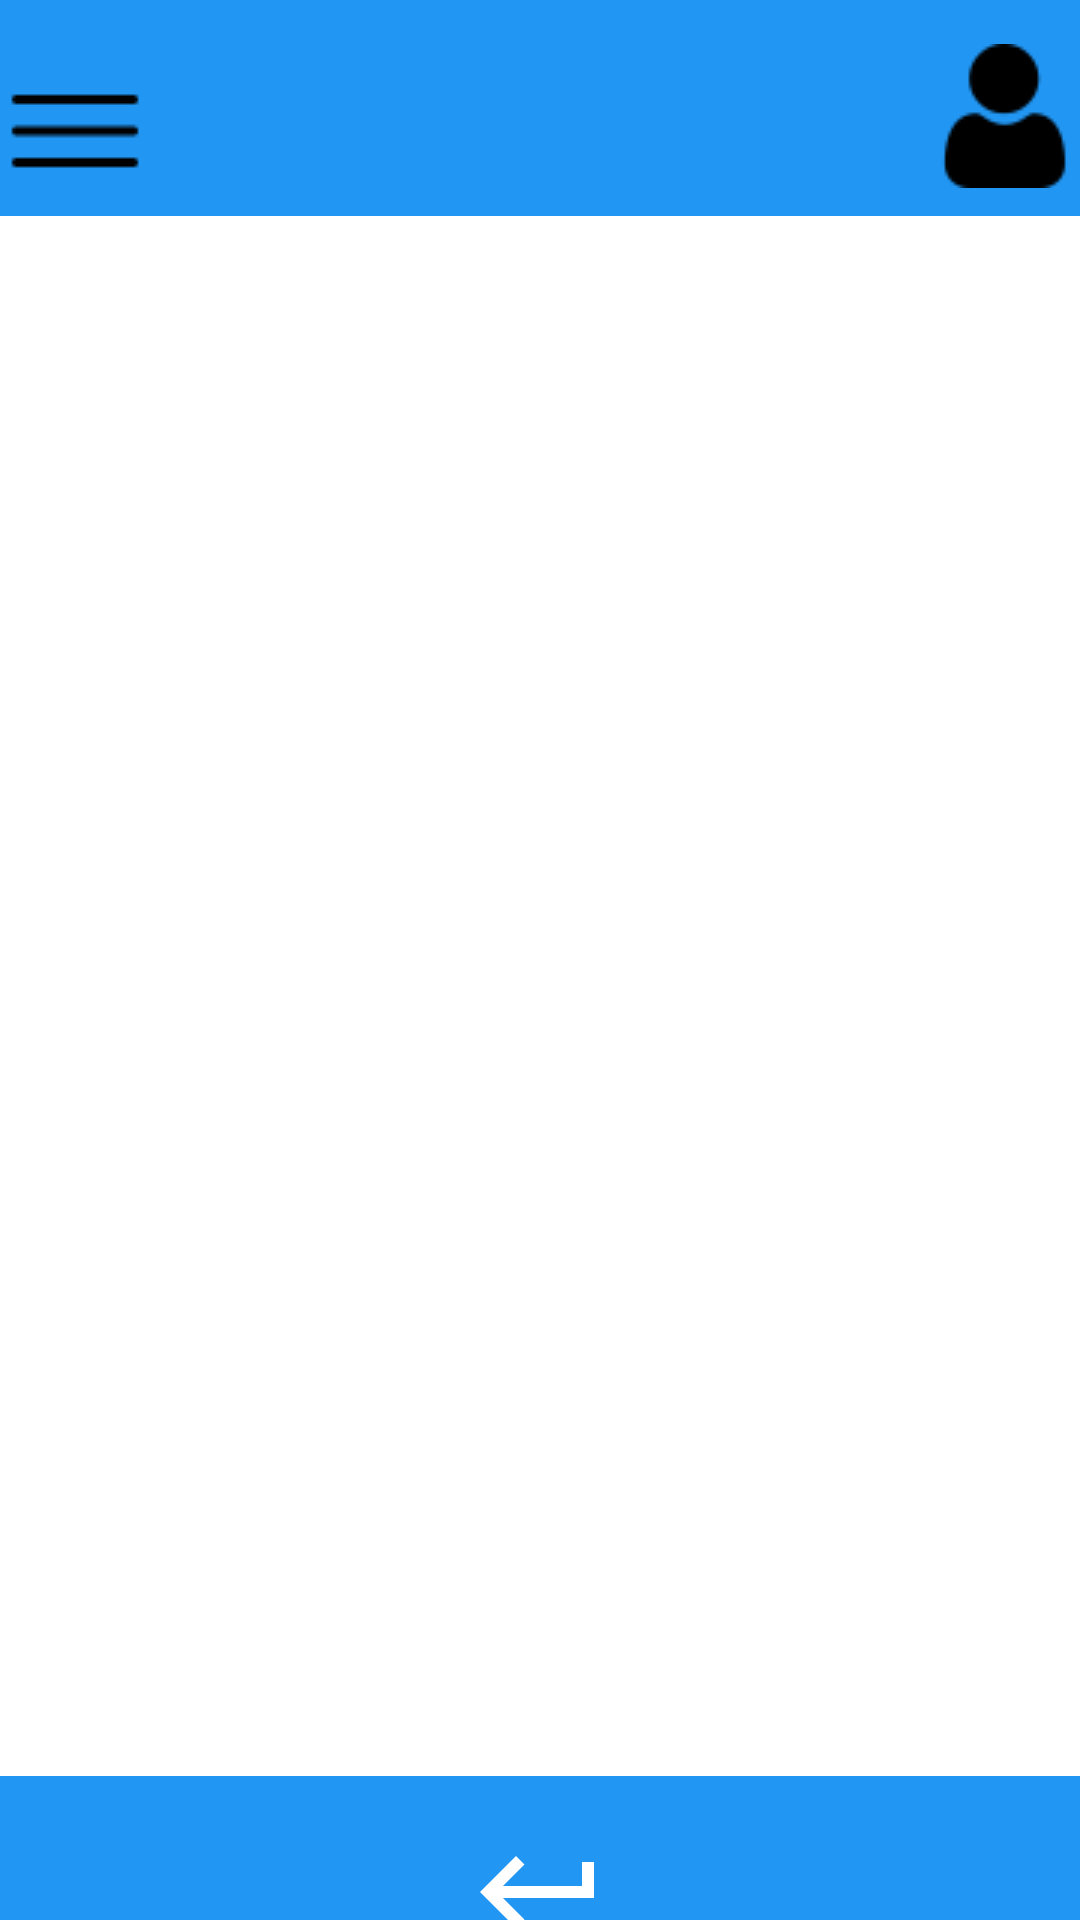

Screen size 1080px×1920px. Icon name, then its center in pixels as (x,y):
burgernav bar: (75,131)
profile: (1005,116)
